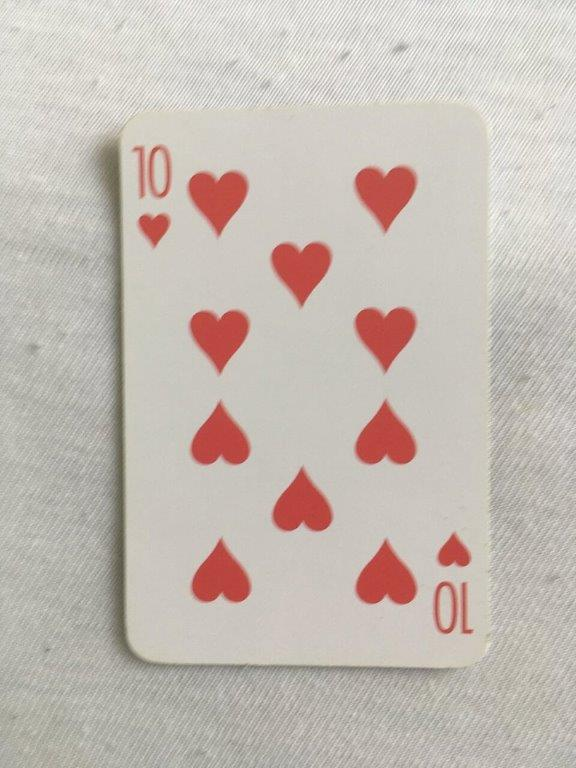10H: (114, 98, 496, 672)
